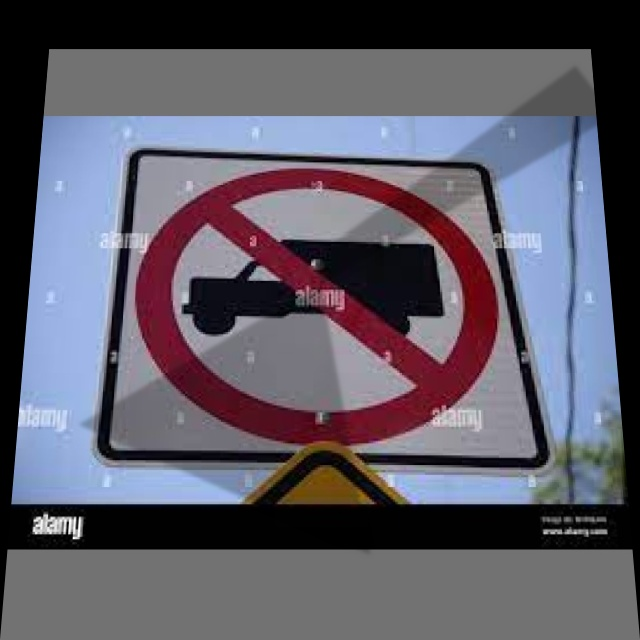Truck_Prohibited: (130, 164, 518, 441)
